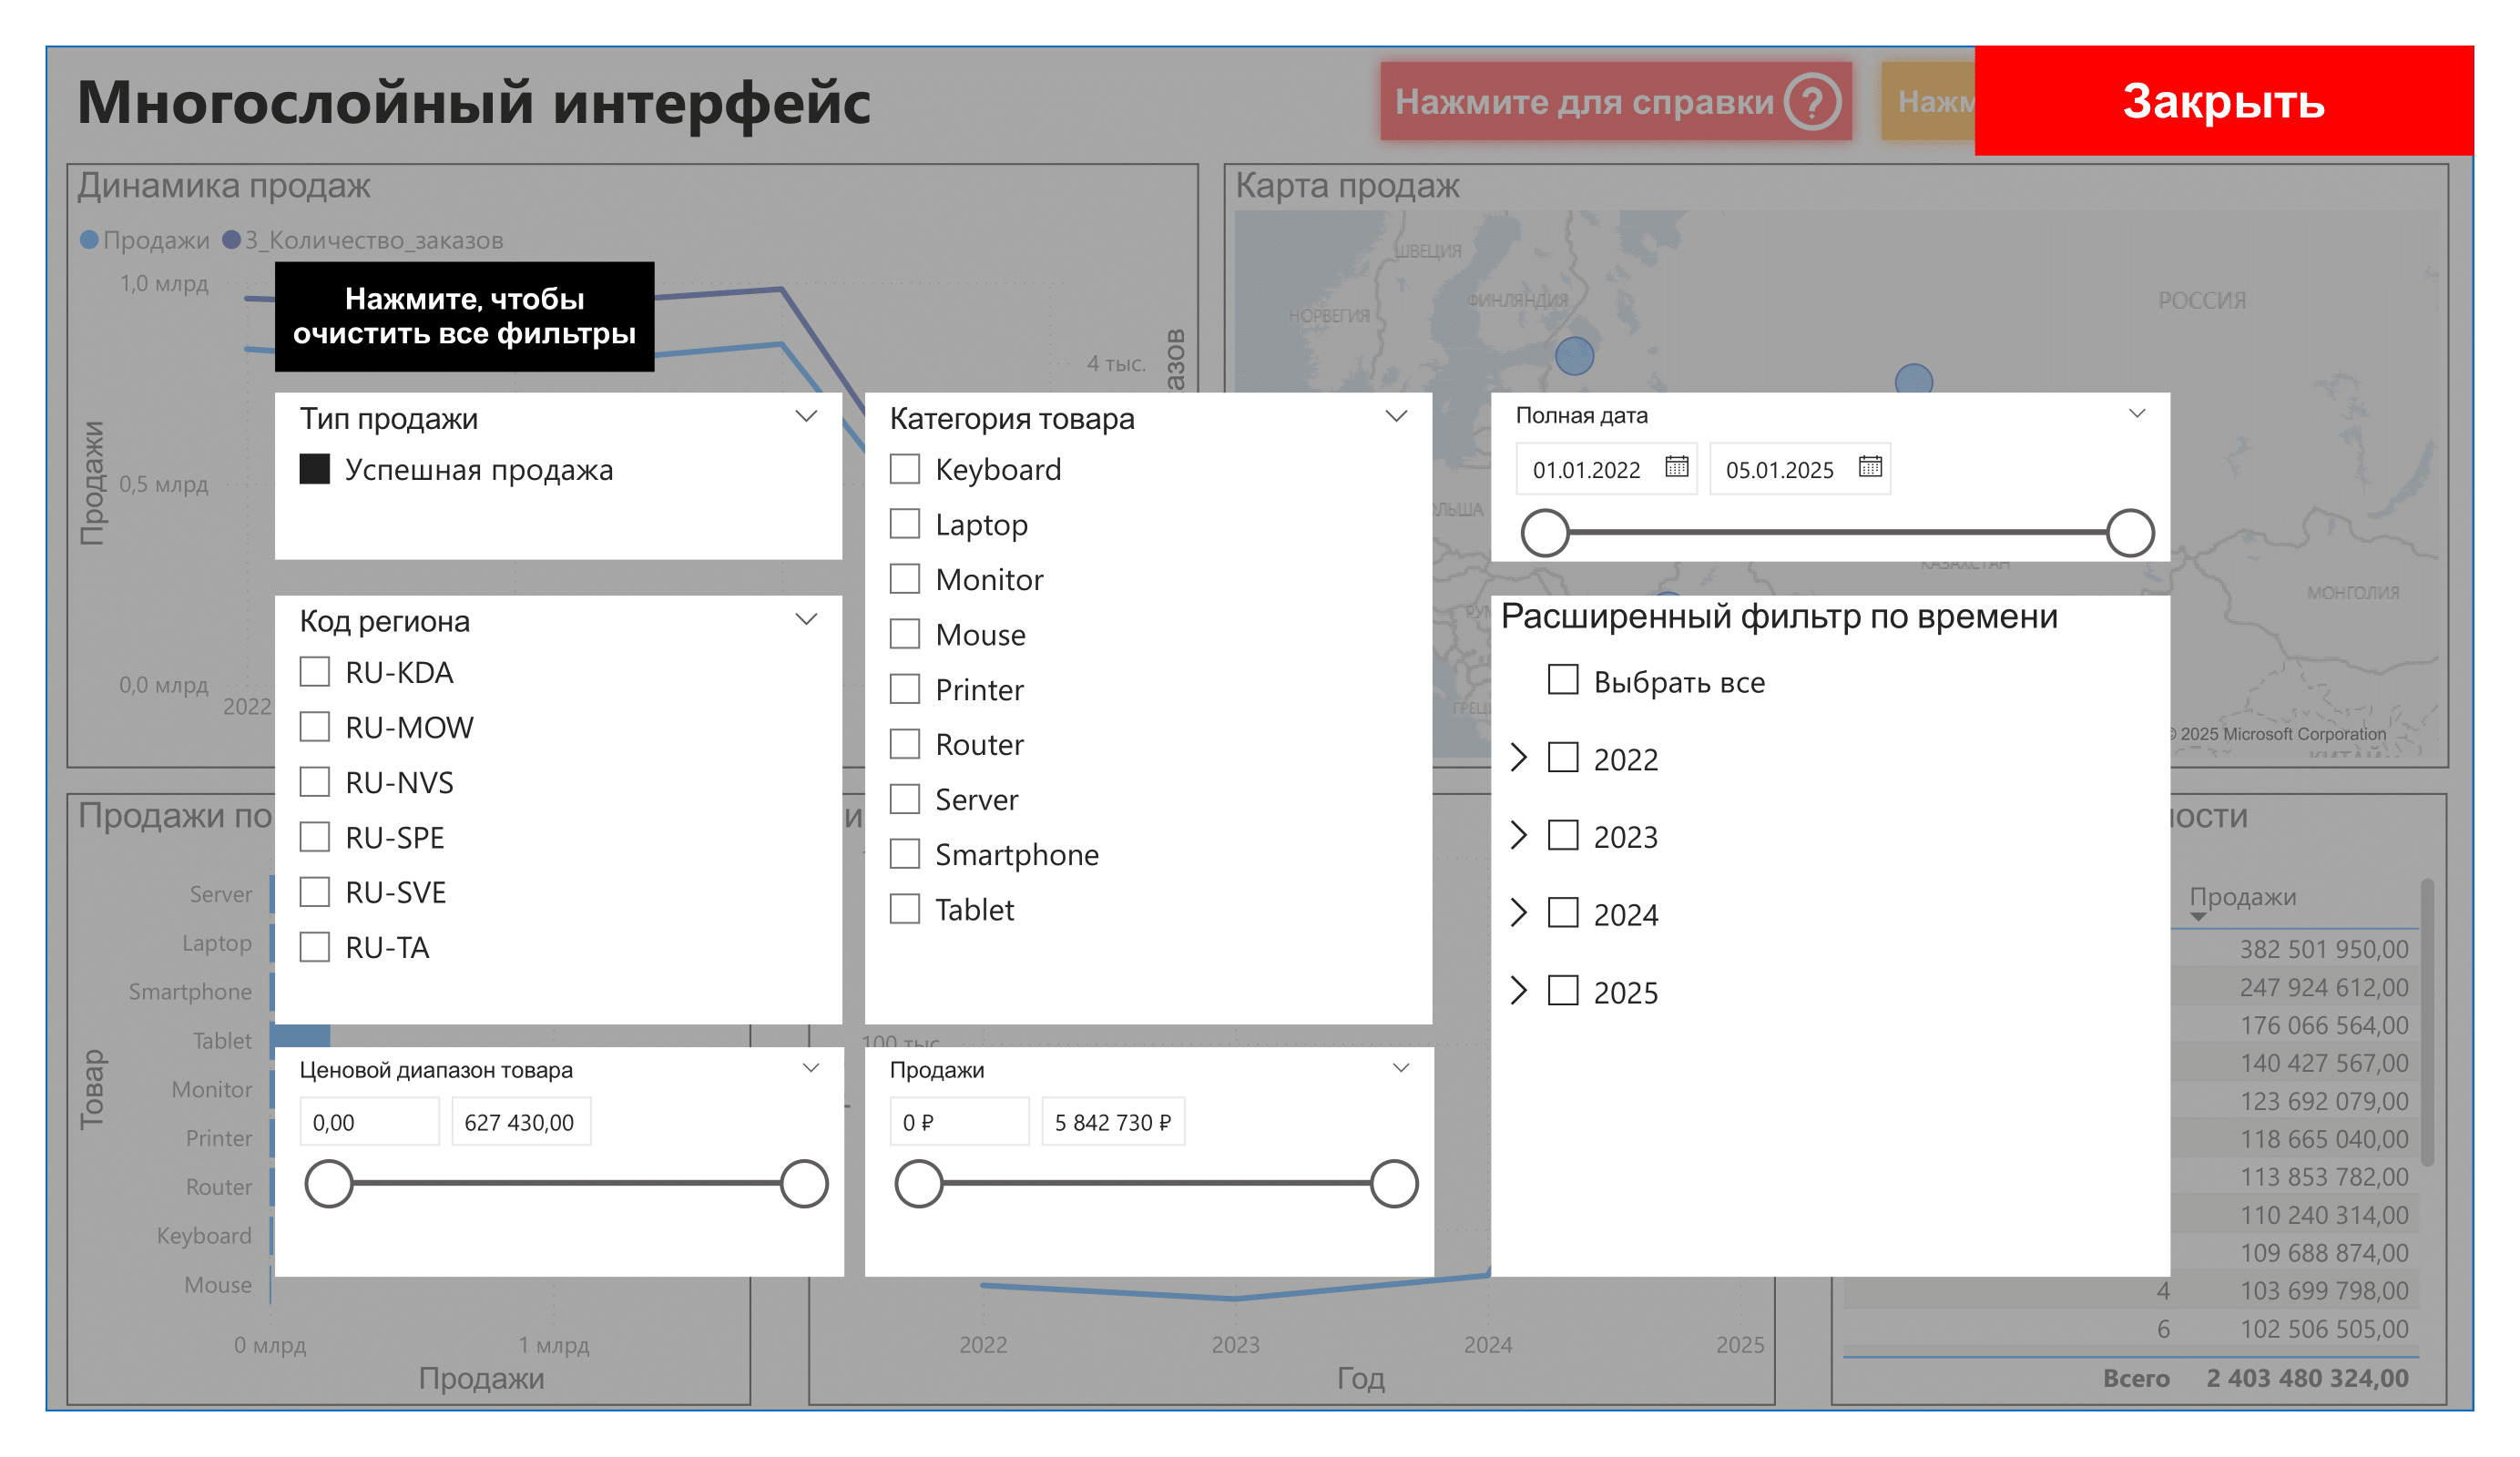

This screenshot's page, from the dashboard's own definition file:
{"tool":"powerbi","page":{"name":"Многослойный интерфейс","canvas":[1280,720],"ordinal":2},"visuals":[{"type":"actionButton","title":"Кнопка_справки","box":[696.3,0.9,263.3,56.7],"z":0},{"type":"actionButton","title":"Кнопка_фильтров","box":[959.7,0.9,307.8,56.7],"z":1000},{"type":"tableEx","title":"Таблица эффективности менеджеров","fields":{"Values":["Продажи.ID менеджера","_Меры.1_Продажи"]},"box":[940.6,393.7,325.9,323.2],"z":2000},{"type":"lineChart","title":"Динамика цены","fields":{"Y":["_Меры.1_Цена"],"Category":["Календарь.Год"]},"box":[401.6,393.7,510.8,323.2],"z":3000},{"type":"barChart","title":"Продажи по категориям товара","fields":{"Y":["_Меры.1_Продажи"],"Category":["Продажи.Товар"]},"box":[11,393.8,360.8,323.3],"z":4000},{"type":"lineChart","title":"Динамика продаж","fields":{"Y":["_Меры.Продажи"],"Category":["Календарь.Год"],"Y2":["_Меры.1_Количество_заказов"]},"box":[11,61.7,597,318.9],"z":5000},{"type":"map","title":"Карта продаж","fields":{"Size":["_Меры.Продажи"],"Category":["Регионы.Код региона"]},"box":[621.2,61.7,645.5,318.9],"z":6000},{"type":"textbox","box":[11.4,0.9,445.7,57.2],"z":9000}]}

Visuals, with their boxes on the page's 1280x720 design canvas (x1, y1, x2, y2). These are canvas units, not pixel positions in the 2520x1457 screenshot, which may show the page scaled, cropped or inside an application window:
"Кнопка_справки" actionButton: bbox=(696, 1, 960, 58)
"Кнопка_фильтров" actionButton: bbox=(960, 1, 1268, 58)
"Таблица эффективности менеджеров" tableEx: bbox=(941, 394, 1266, 717)
"Динамика цены" lineChart: bbox=(402, 394, 912, 717)
"Продажи по категориям товара" barChart: bbox=(11, 394, 372, 717)
"Динамика продаж" lineChart: bbox=(11, 62, 608, 381)
"Карта продаж" map: bbox=(621, 62, 1267, 381)
textbox: bbox=(11, 1, 457, 58)
